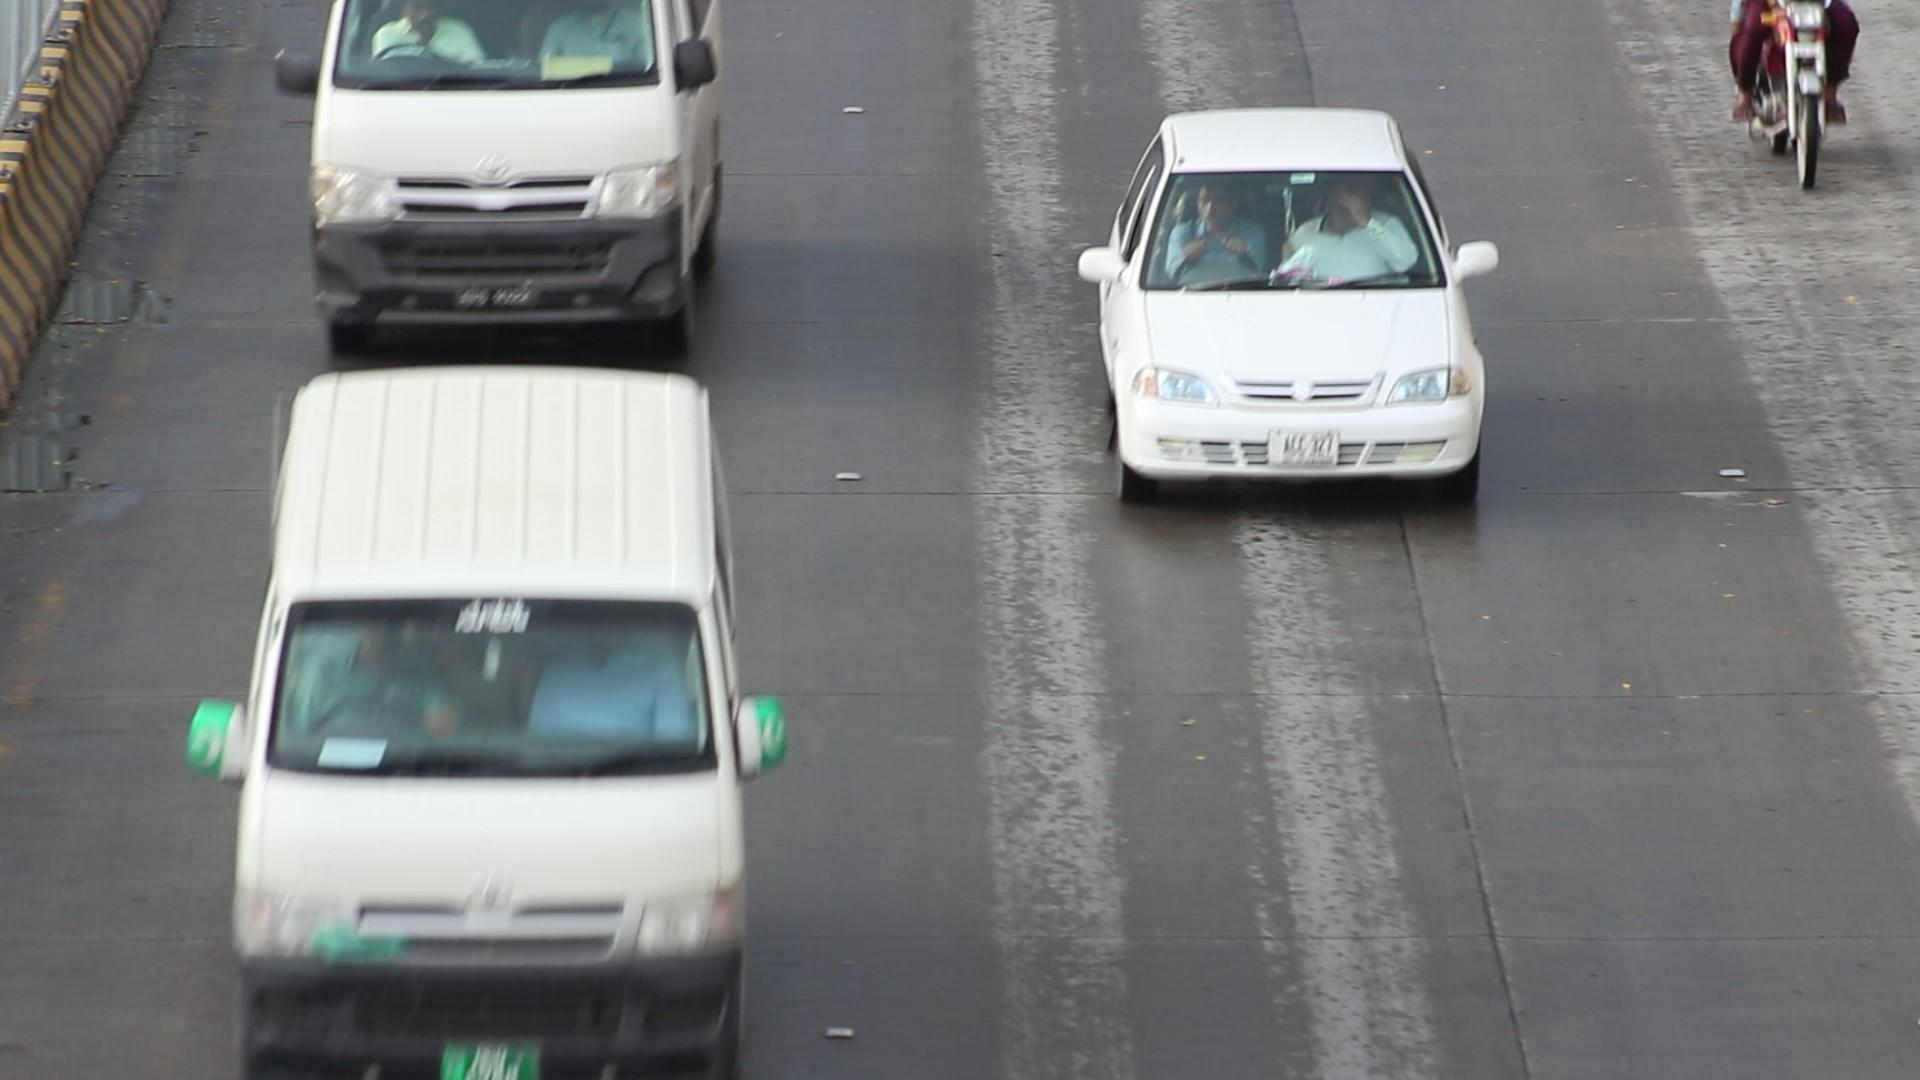windshield: (251, 583, 724, 773), (1137, 164, 1453, 297)
